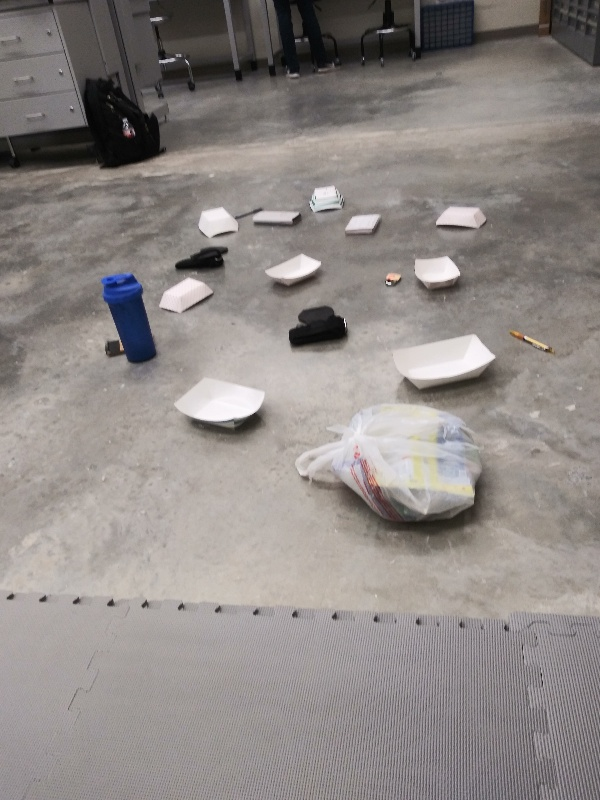plate: (390, 332, 502, 398), (167, 373, 270, 435), (258, 248, 328, 293), (156, 274, 215, 318), (410, 251, 464, 292), (195, 202, 244, 241), (431, 201, 491, 232), (306, 181, 347, 216)
